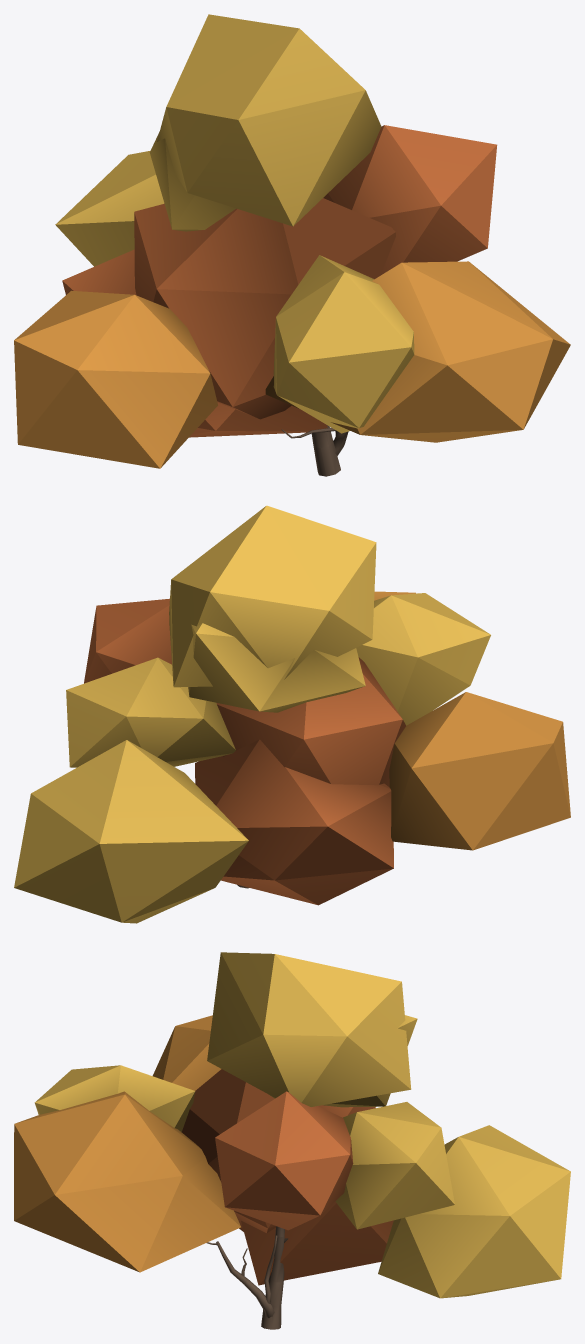
The model's file is obj_deco_matorral.glb.
The picture shows the model from 3 angles, top to bottom: view 1: azimuth 30°, elevation 25°; view 2: azimuth 150°, elevation 25°; view 3: azimuth 270°, elevation 25°; orthographic projection. The views are drawn at different scales.
Visible parts, largest first — view 1: propforge-libre-deco_matorral; view 2: propforge-libre-deco_matorral; view 3: propforge-libre-deco_matorral.
Boxes of the visible parts, x1,y1,x2,y2 form: propforge-libre-deco_matorral: (14,14,570,476); propforge-libre-deco_matorral: (14,505,570,923); propforge-libre-deco_matorral: (14,952,570,1329).
Size of the model in its own units: 0.6768 by 0.5634 by 0.7812.
